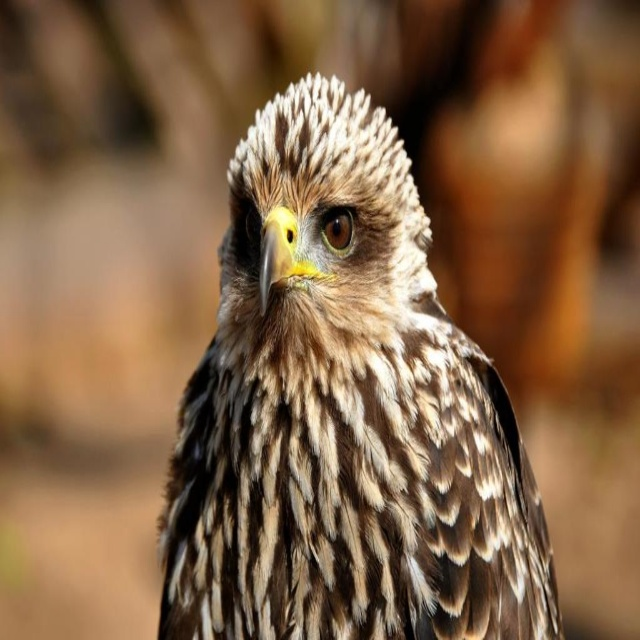Eagle: (155, 72, 569, 639)
